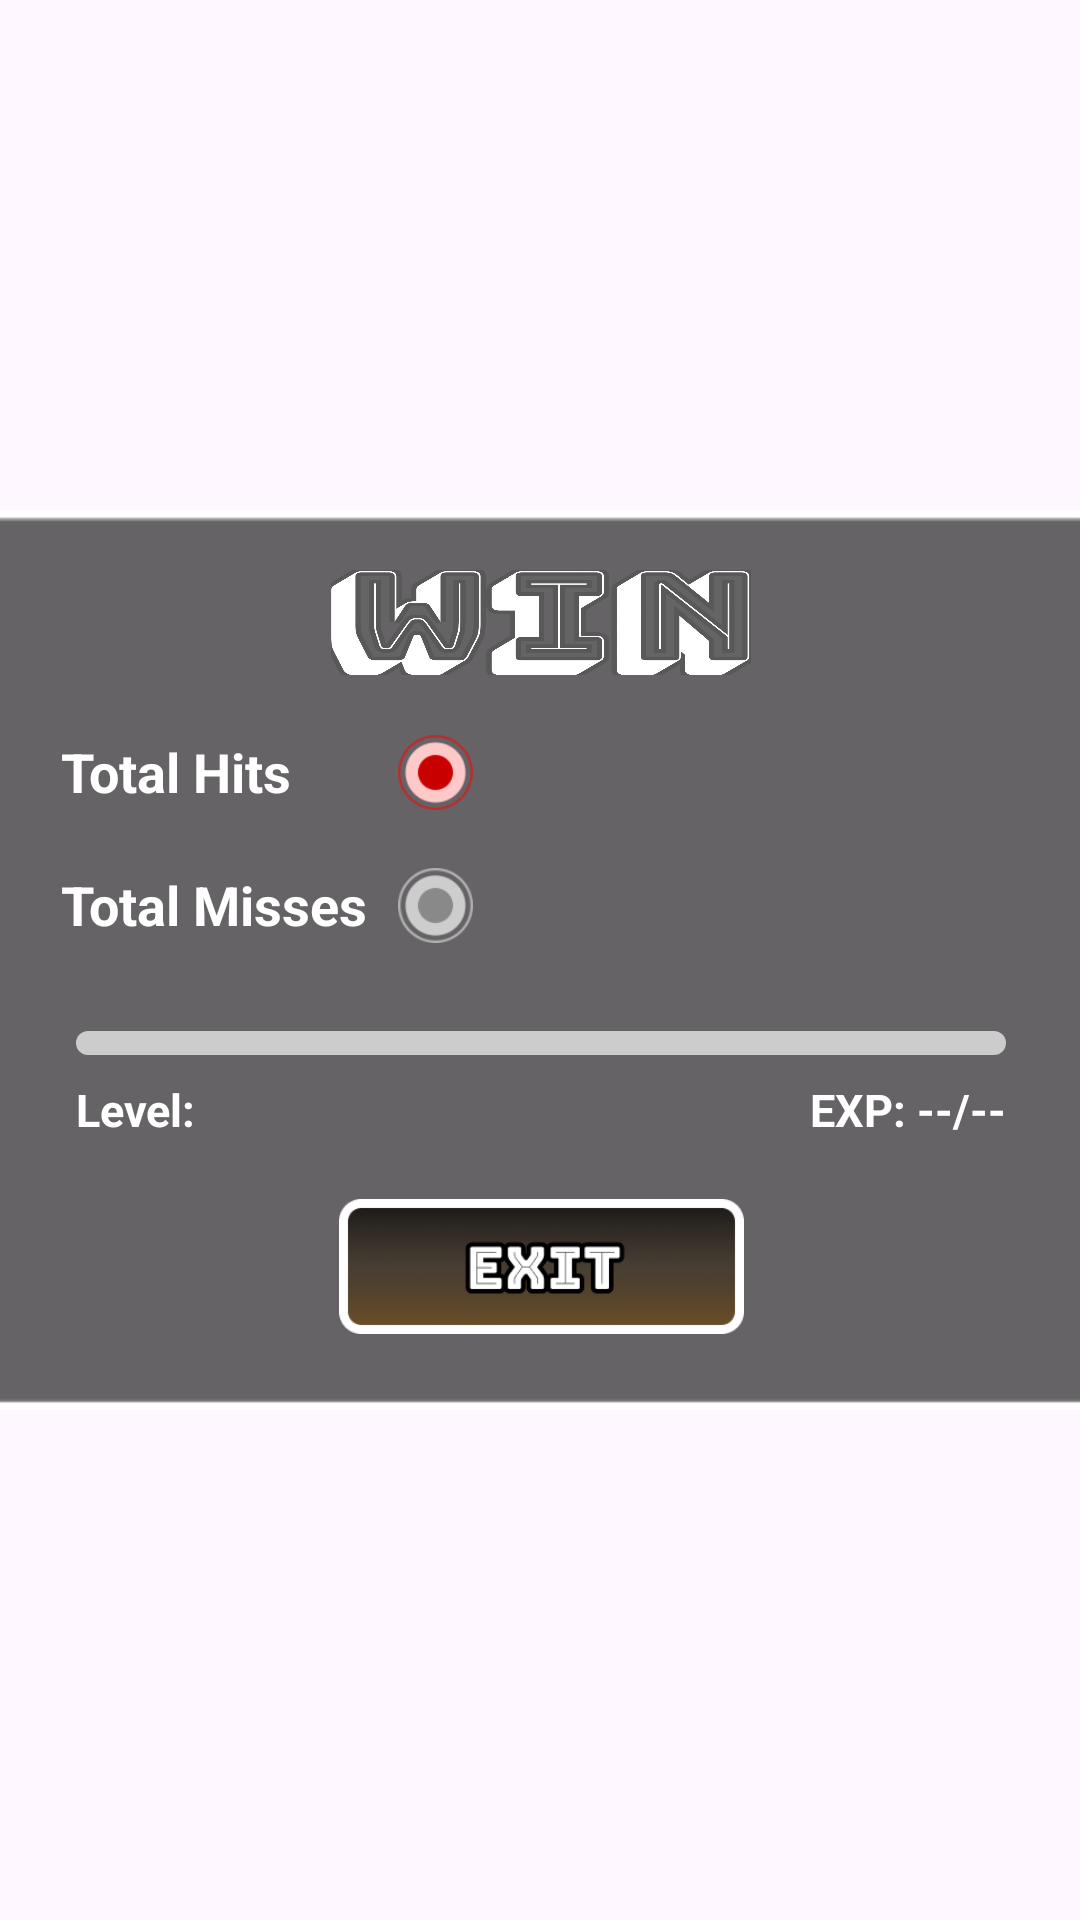

Where to tap for icons on this 1080px x 1920px app screen, as [x,y]:
false bullet: [435,905]
success bullet: [435,772]
